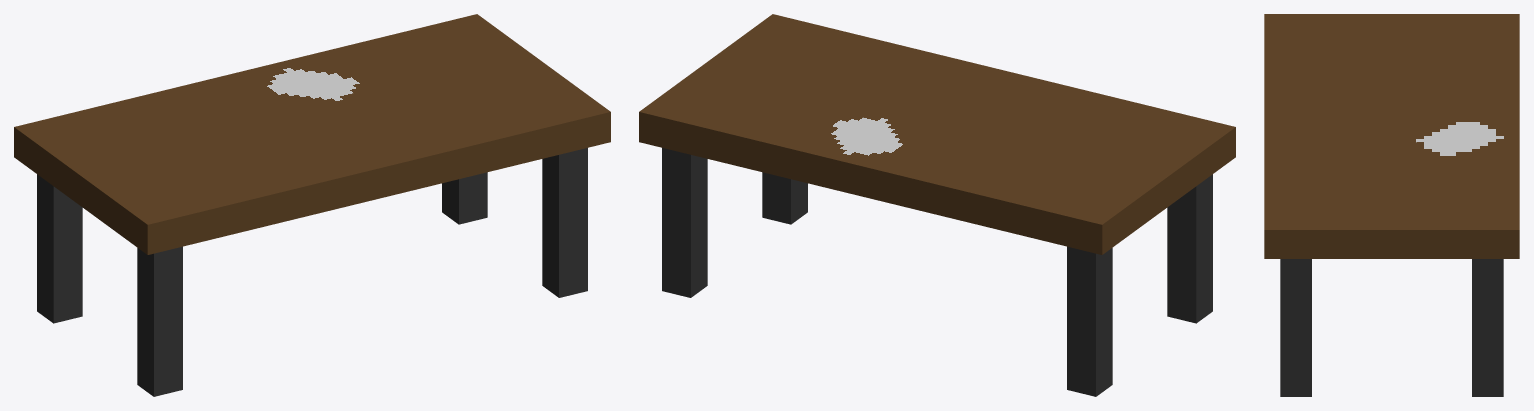
The picture shows the model from 3 angles, left to right: view 1: azimuth 30°, elevation 25°; view 2: azimuth 150°, elevation 25°; view 3: azimuth 270°, elevation 25°; orthographic projection. The views are drawn at different scales.
Parts seen in each view (by area): view 1: cube; view 2: cube; view 3: cube.
Part boxes in pixels (bbox=[...]): cube: bbox=[14, 14, 610, 396]; cube: bbox=[639, 14, 1235, 396]; cube: bbox=[1264, 14, 1519, 396].
Bounding box in the file's own units: 2 × 0.75 × 1.
1 material, 1 textured.
